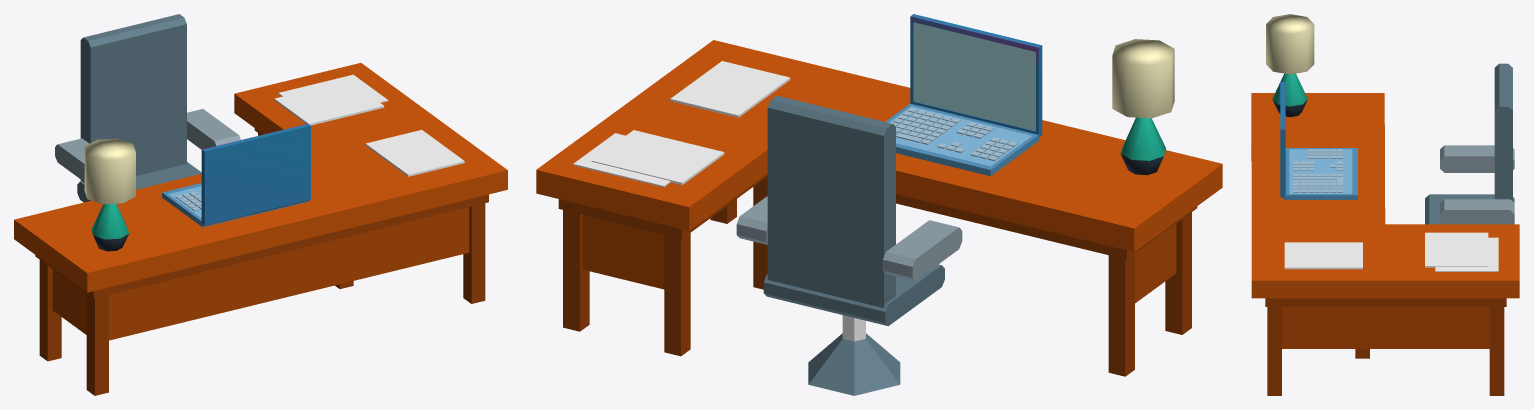
Rendered from Work Table and Chair lv2.fbx.
3 views of the same model, side by side, from view 1: azimuth 30°, elevation 25°; view 2: azimuth 150°, elevation 25°; view 3: azimuth 270°, elevation 25° (orthographic). The views are drawn at different scales.
Visible parts, largest first — view 1: Work_Table_and_Chair_lv2; view 2: Work_Table_and_Chair_lv2; view 3: Work_Table_and_Chair_lv2.
Part boxes in pixels (left/top/right/bottom): Work_Table_and_Chair_lv2: left=14, top=14, right=507, bottom=395; Work_Table_and_Chair_lv2: left=536, top=14, right=1222, bottom=395; Work_Table_and_Chair_lv2: left=1251, top=14, right=1519, bottom=395.
Bounding box in the file's own units: 362 × 191 × 219.
